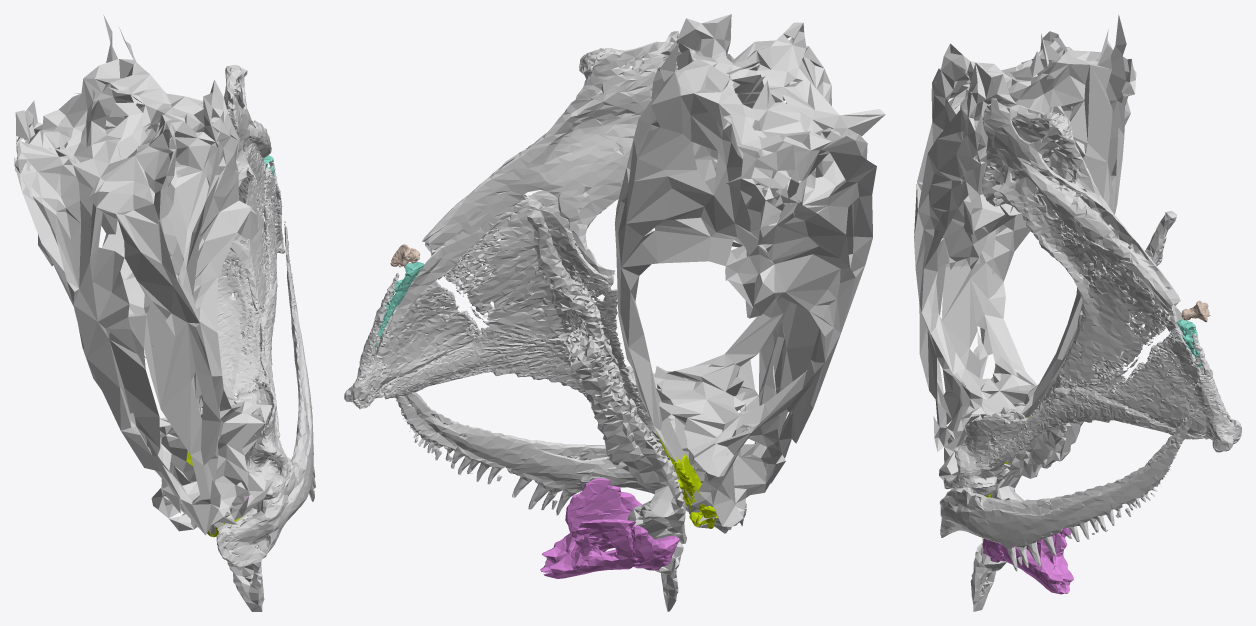
Rendered from ummz-238306.glb.
3 renders of one model, left to right at view 1: azimuth 30°, elevation 25°; view 2: azimuth 150°, elevation 25°; view 3: azimuth 270°, elevation 25°, orthographic. The views are drawn at different scales.
Visible parts, largest first — view 1: braincase, maxilla, endopterygoid, metapterygoid, palatine, hyomandibula, quadrate, ectopterygoid, basibranchials; view 2: braincase, hyomandibula, basibranchials, metapterygoid, maxilla, quadrate, hypohyals, ectopterygoid, endopterygoid, vomer, symplectic; view 3: braincase, hyomandibula, metapterygoid, maxilla, quadrate, ectopterygoid, basibranchials, palatine, hypohyals, symplectic.
Boxes of the visible parts, box(x1,y1,x2,y2) form: braincase: box(14, 15, 272, 536); maxilla: box(216, 221, 315, 570); endopterygoid: box(217, 255, 261, 396); metapterygoid: box(225, 144, 268, 313); palatine: box(234, 375, 293, 499); hyomandibula: box(224, 65, 270, 187); quadrate: box(263, 161, 285, 291); ectopterygoid: box(251, 252, 281, 442); basibranchials: box(226, 500, 264, 611); braincase: box(615, 14, 885, 528); hyomandibula: box(383, 31, 678, 338); basibranchials: box(526, 210, 686, 611); metapterygoid: box(443, 190, 613, 341); maxilla: box(395, 392, 746, 533); quadrate: box(344, 273, 486, 408); hypohyals: box(540, 478, 679, 578); ectopterygoid: box(384, 332, 586, 399); endopterygoid: box(556, 269, 644, 414); vomer: box(656, 431, 717, 528); symplectic: box(374, 262, 424, 346); braincase: box(914, 14, 1136, 496); hyomandibula: box(982, 98, 1183, 333); metapterygoid: box(1006, 193, 1170, 387); maxilla: box(939, 408, 1199, 571); quadrate: box(1101, 326, 1241, 452); ectopterygoid: box(984, 380, 1208, 467); basibranchials: box(970, 211, 1176, 611); palatine: box(943, 407, 1028, 496); hypohyals: box(982, 527, 1073, 594); symplectic: box(1176, 319, 1201, 367).
Bounding box in the file's own units: 26.77 × 40.31 × 21.48.
